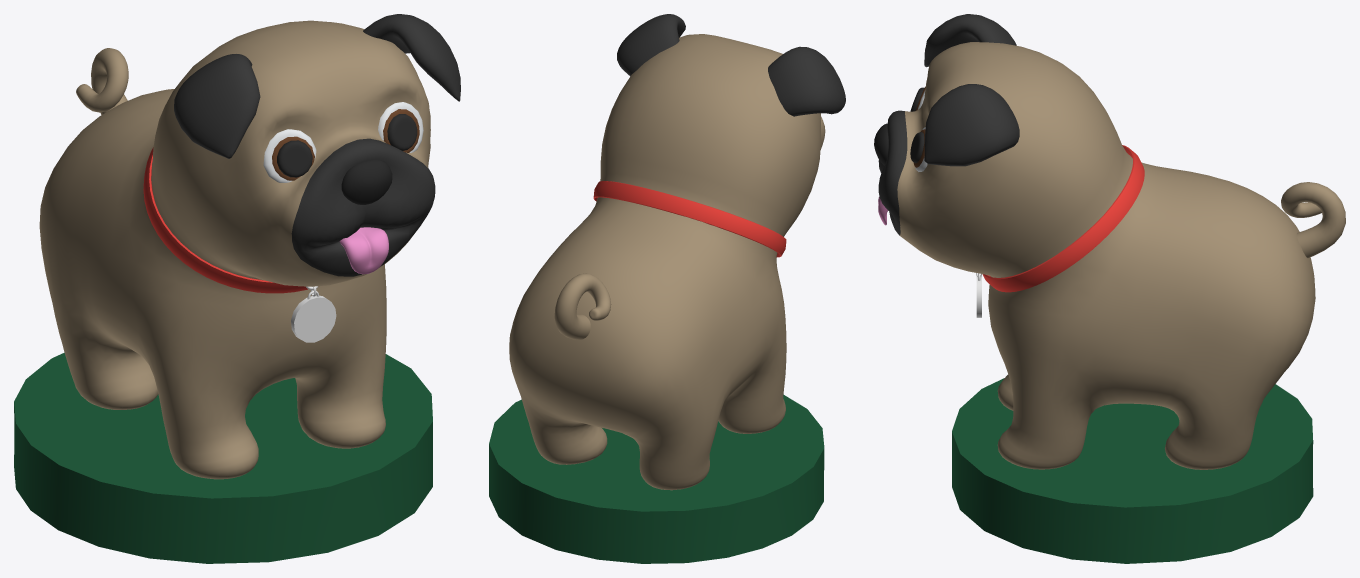
Rendered from Dog0.glb.
3 renders of one model, left to right at view 1: azimuth 30°, elevation 25°; view 2: azimuth 150°, elevation 25°; view 3: azimuth 270°, elevation 25°, orthographic. The views are drawn at different scales.
Parts seen in each view (by area): view 1: Pug_Body, Pug_Floor, Pug_Ears, Pug_Collar, Pug_Tail, Pug_Pupils, Pug_Nose, Pug_Metall, Pug_Tongue, Pug_Eyes, Pug_Iris; view 2: Pug_Body, Pug_Floor, Pug_Ears, Pug_Collar, Pug_Tail; view 3: Pug_Body, Pug_Floor, Pug_Ears, Pug_Collar, Pug_Tail.
Boxes of the visible parts, bbox=[...] form: Pug_Body: bbox=[39, 20, 435, 479]; Pug_Floor: bbox=[14, 352, 432, 563]; Pug_Ears: bbox=[174, 14, 460, 158]; Pug_Collar: bbox=[143, 147, 307, 293]; Pug_Tail: bbox=[76, 48, 128, 114]; Pug_Pupils: bbox=[277, 114, 417, 177]; Pug_Nose: bbox=[341, 159, 392, 204]; Pug_Metall: bbox=[291, 286, 336, 342]; Pug_Tongue: bbox=[339, 227, 388, 274]; Pug_Eyes: bbox=[263, 102, 423, 182]; Pug_Iris: bbox=[272, 109, 419, 180]; Pug_Body: bbox=[509, 34, 825, 490]; Pug_Floor: bbox=[489, 394, 824, 563]; Pug_Ears: bbox=[617, 14, 845, 116]; Pug_Collar: bbox=[593, 181, 786, 257]; Pug_Tail: bbox=[554, 273, 611, 339]; Pug_Body: bbox=[878, 42, 1315, 469]; Pug_Floor: bbox=[952, 378, 1313, 563]; Pug_Ears: bbox=[924, 14, 1019, 166]; Pug_Collar: bbox=[982, 145, 1144, 292]; Pug_Tail: bbox=[1281, 182, 1345, 257].
Bounding box in the file's own units: 0.9958 × 1.33 × 1.3.
